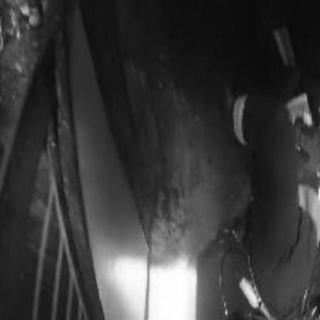Fire: (150, 262, 198, 319)
other: (116, 259, 148, 305)
